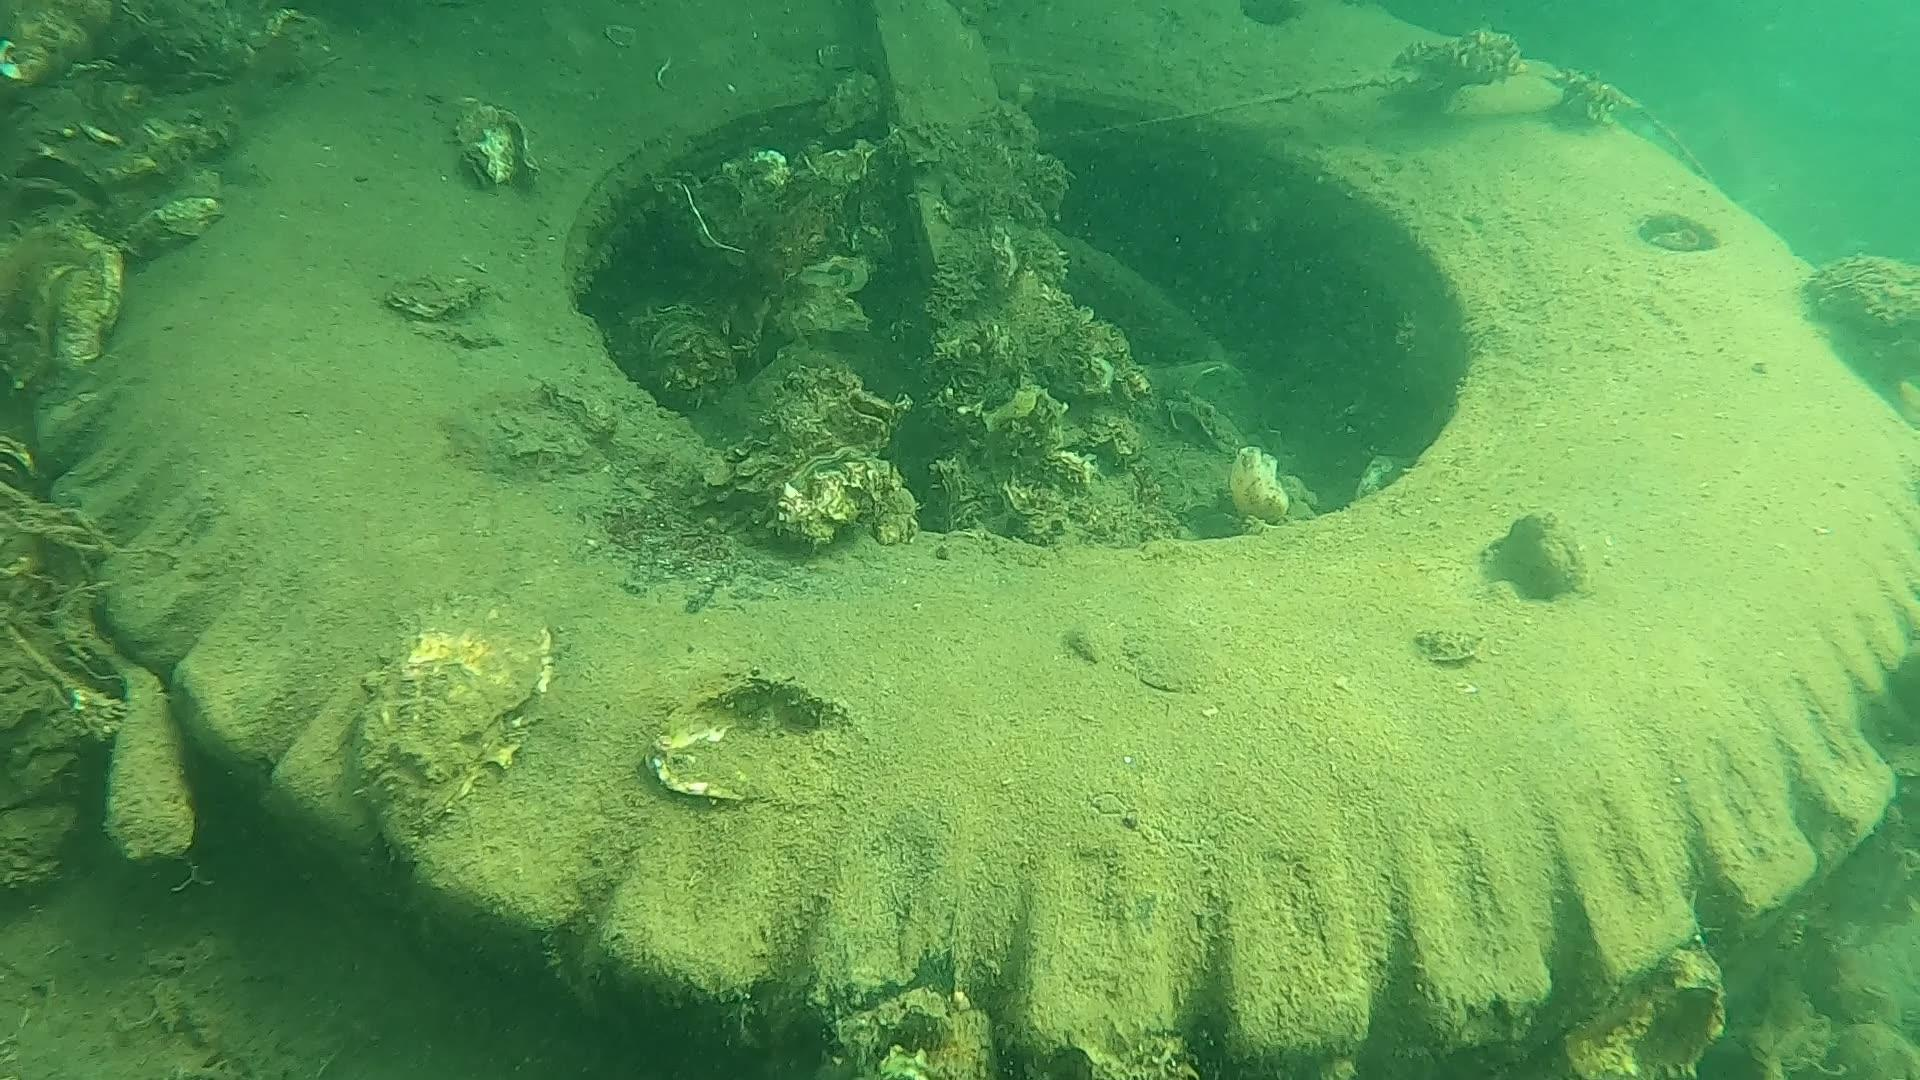tire: (30, 3, 1920, 1080)
